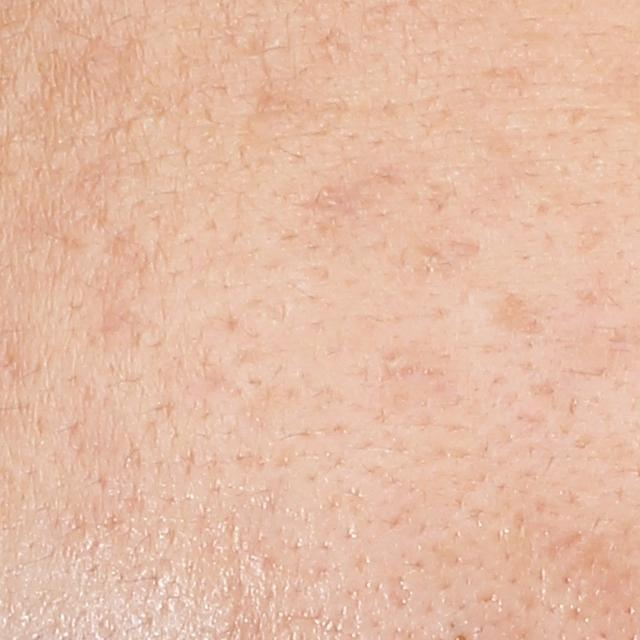atrophic_scar: (481, 291, 560, 352)
